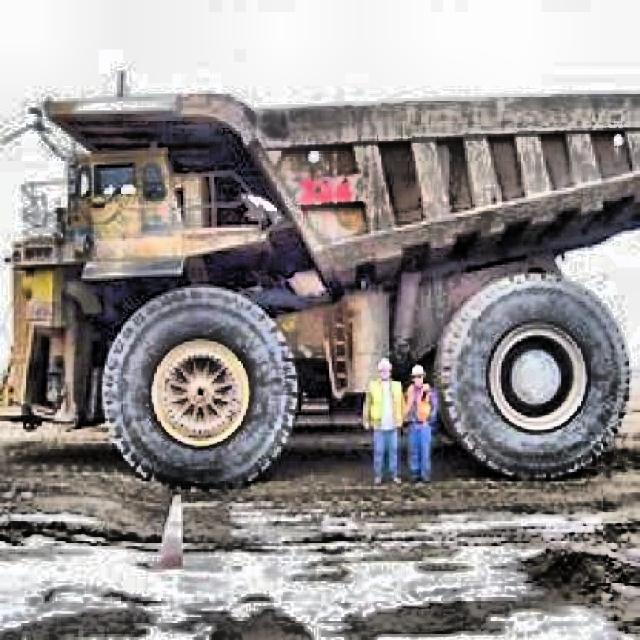dump_truck: (10, 52, 638, 505)
person: (358, 351, 406, 478), (404, 356, 442, 486)
